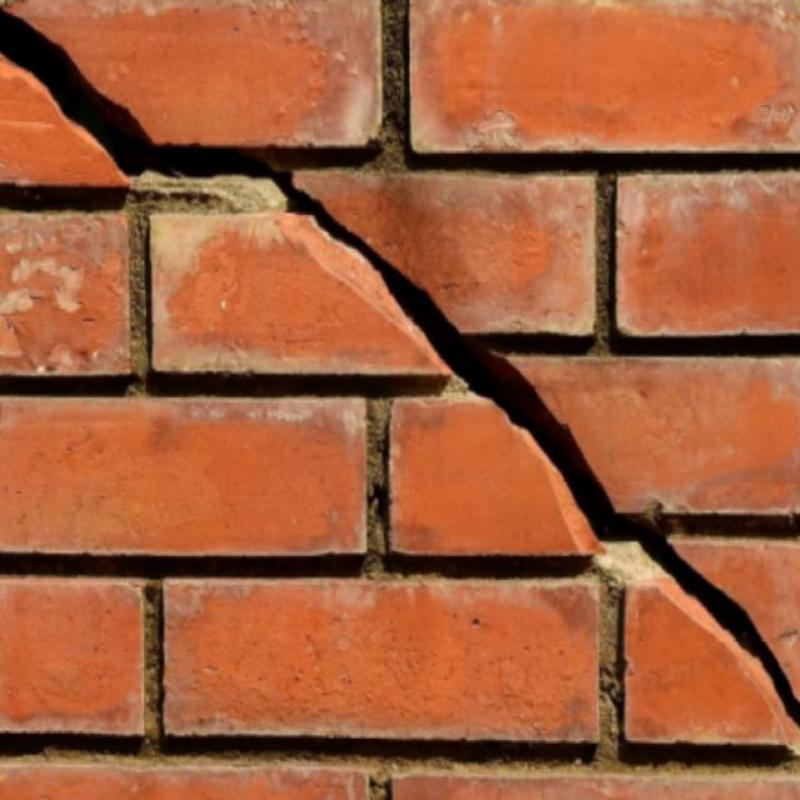pothole: (277, 176, 800, 721), (0, 11, 270, 176)
